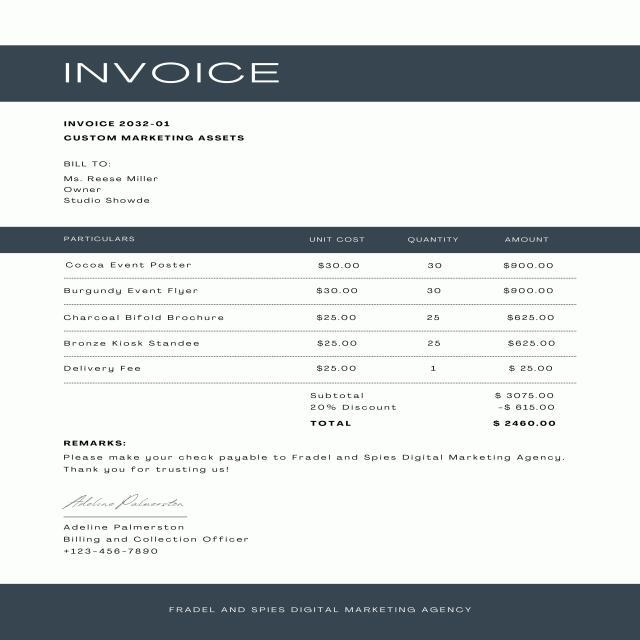ROI: (50, 232, 593, 384), (56, 436, 580, 480), (51, 49, 307, 99), (303, 388, 568, 430), (58, 522, 254, 570), (57, 106, 253, 146), (54, 151, 169, 210), (54, 491, 200, 520)
